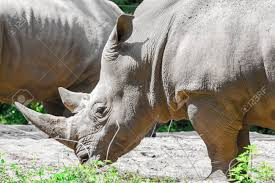Rhinoceros: (11, 2, 269, 177)
